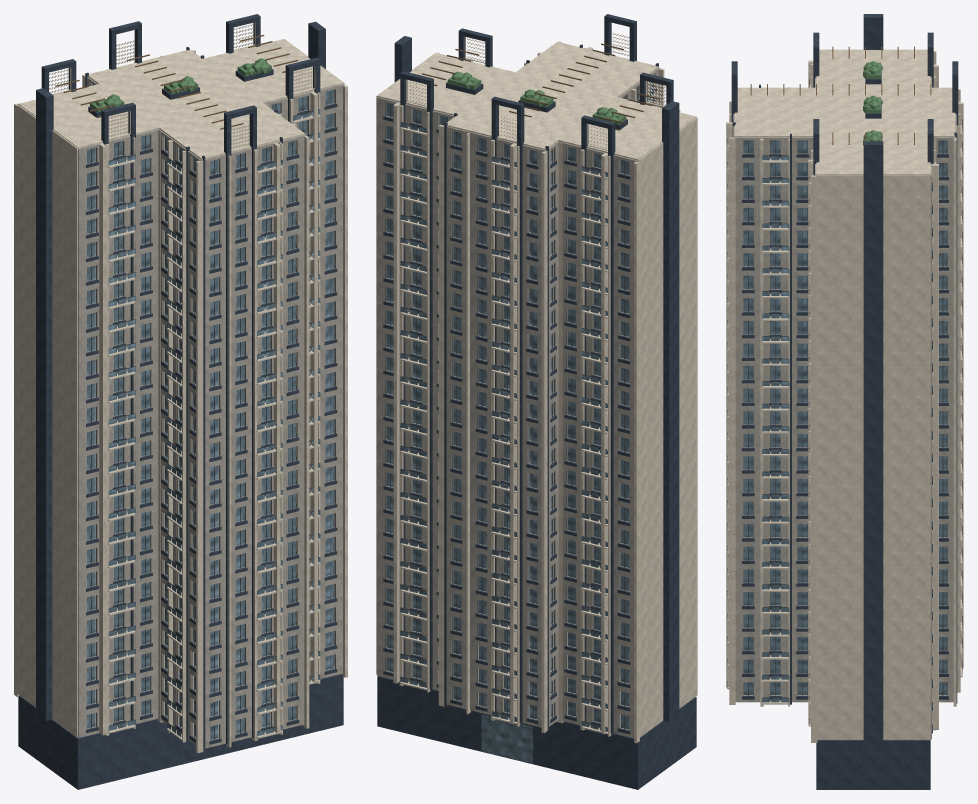
File: elements-towers.glb
3 views of the same model, side by side, from view 1: azimuth 30°, elevation 25°; view 2: azimuth 150°, elevation 25°; view 3: azimuth 270°, elevation 25° (orthographic). The views are drawn at different scales.
Parts seen in each view (by area): view 1: Warm grey render, stone-ivory, native-glass-front, Masonry front, Footprint slab.001, Raised cream facade lines, Aluminium window frames, Solid centre spine and terrace return, Perforated rooftop lattice, Deck, Pale interior curtains, Rooftop planted garden; view 2: Warm grey render, stone-ivory, Masonry front, native-glass-front, Footprint slab.001, Raised cream facade lines, Solid centre spine and terrace return, Aluminium window frames, Perforated rooftop lattice, Pale interior curtains, Deck, Rooftop planted garden; view 3: stone-ivory, Warm grey render, native-glass-front, Footprint slab.001, Masonry front, Solid centre spine and terrace return, Raised cream facade lines, Aluminium window frames, Rooftop planted garden, Deck.
Boxes of the visible parts, x1,y1,x2,y2 form: Warm grey render: (77, 77, 344, 748); stone-ivory: (14, 39, 347, 753); native-glass-front: (87, 84, 334, 739); Masonry front: (18, 14, 343, 789); Footprint slab.001: (18, 39, 343, 159); Raised cream facade lines: (99, 66, 317, 735); Aluminium window frames: (90, 82, 335, 739); Solid centre spine and terrace return: (36, 21, 325, 720); Perforated rooftop lattice: (49, 22, 315, 148); Deck: (55, 35, 298, 129); Pale interior curtains: (149, 140, 296, 715); Rooftop planted garden: (94, 58, 270, 109); Warm grey render: (376, 67, 659, 737); stone-ivory: (376, 41, 697, 743); Masonry front: (377, 14, 696, 789); native-glass-front: (386, 82, 652, 763); Footprint slab.001: (377, 41, 696, 160); Raised cream facade lines: (393, 47, 680, 734); Solid centre spine and terrace return: (394, 36, 679, 722); Aluminium window frames: (385, 82, 654, 729); Perforated rooftop lattice: (406, 32, 666, 150); Pale interior curtains: (453, 91, 639, 695); Deck: (422, 43, 660, 130); Rooftop planted garden: (452, 71, 621, 122); stone-ivory: (727, 51, 962, 742); Warm grey render: (733, 77, 956, 739); native-glass-front: (727, 129, 962, 724); Footprint slab.001: (734, 49, 955, 174); Masonry front: (731, 32, 958, 789); Solid centre spine and terrace return: (863, 14, 883, 742); Raised cream facade lines: (726, 60, 963, 729); Aluminium window frames: (727, 79, 962, 719); Rooftop planted garden: (863, 61, 882, 145); Deck: (750, 46, 931, 144).
Bounding box in the file's own units: 37.97 × 88.3 × 29.02.
11 materials, 8 textured.
